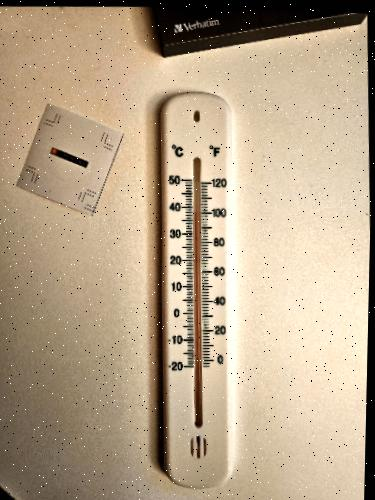thermo: (158, 95, 233, 486)
